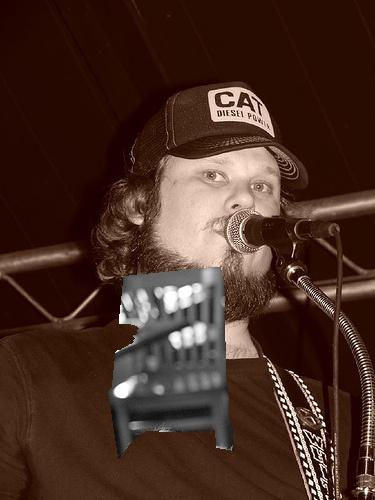tampered: (109, 267, 234, 459)
